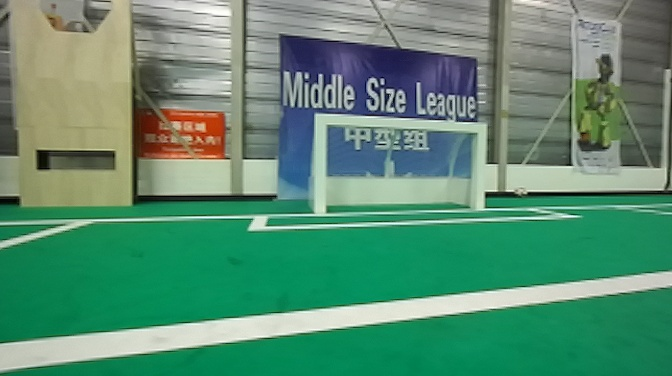ball: (508, 182, 530, 196)
goalpost: (307, 106, 339, 223), (469, 115, 490, 213)
